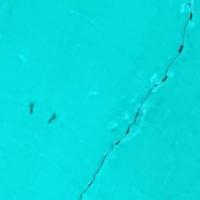crack: (87, 2, 199, 193)
